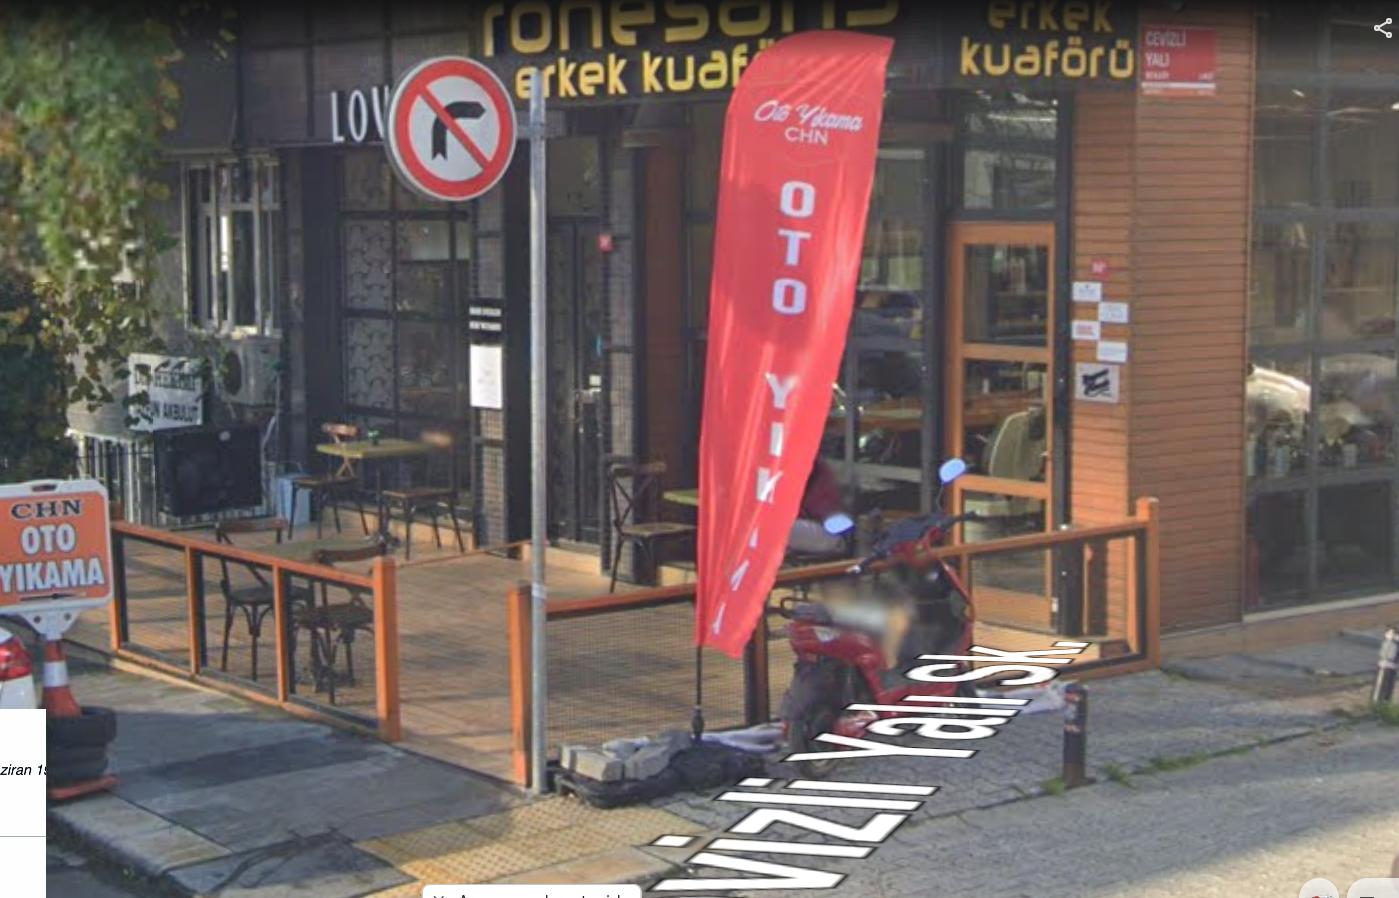rightturnsareforbidden: (387, 63, 510, 195)
